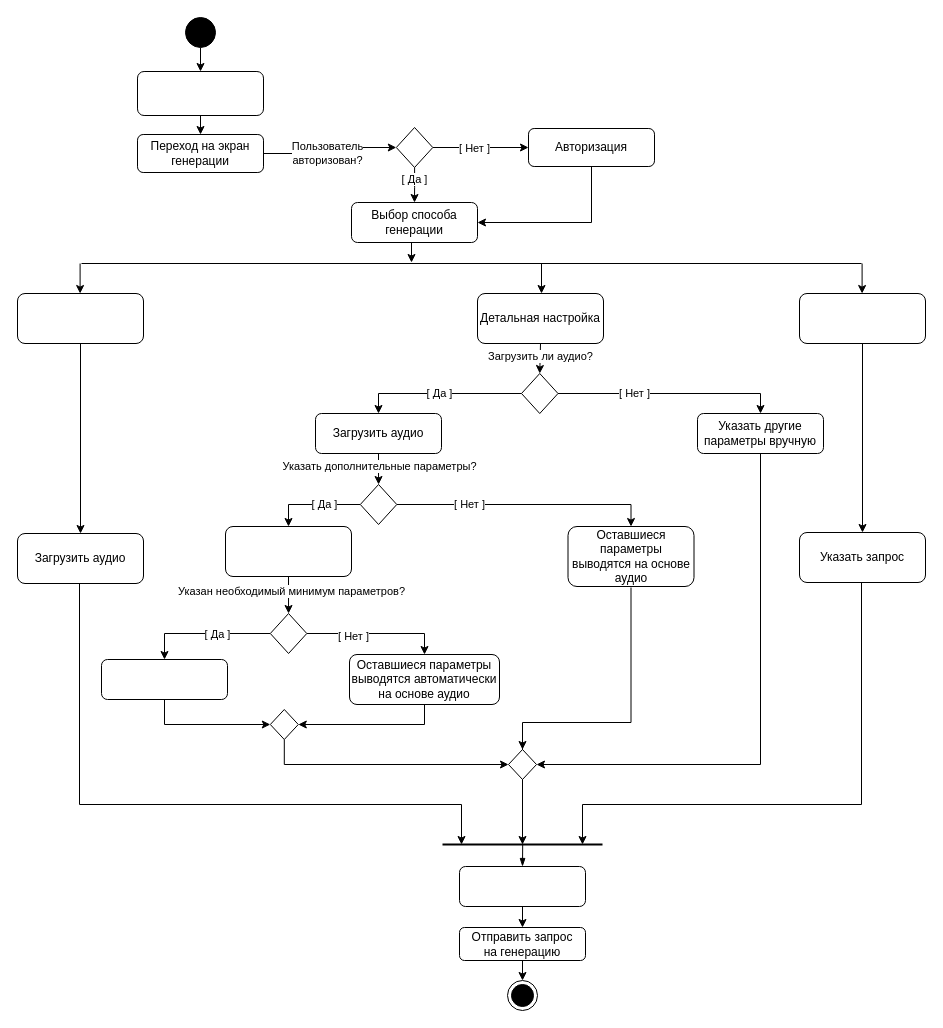
Some shapes in this 943 by 1028 pixel diagram are drawn without their labels. The centre of each missing label's shape, as x and y in pixels:
"Автоматическая генерация" belongs at point (80, 318).
"Аудио игнорируется" belongs at point (164, 679).
"Конкретный запрос" belongs at point (862, 318).
"Просмотр главного экрана" belongs at point (200, 93).
"Указать название обложки" belongs at point (522, 886).
"Указать оставшиеся параметры в любом сочетании" belongs at point (288, 551).
